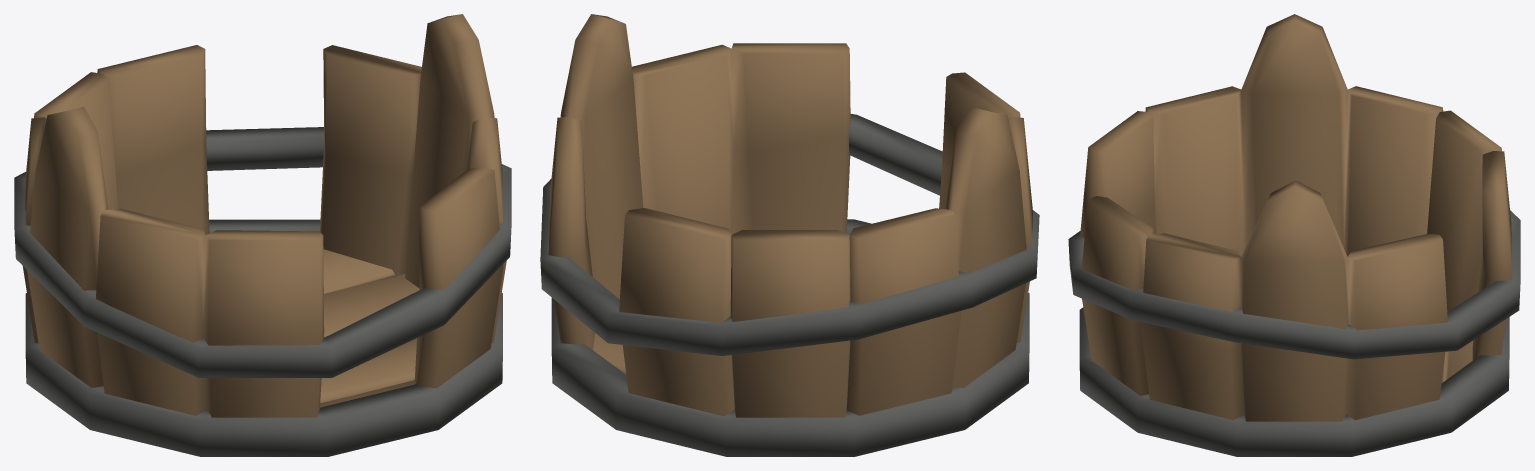
The model's file is rpgpp_av_bathtub_wood_01a.gltf.
The picture shows the model from 3 angles, left to right: view 1: azimuth 30°, elevation 25°; view 2: azimuth 150°, elevation 25°; view 3: azimuth 270°, elevation 25°; orthographic projection. The views are drawn at different scales.
Visible parts, largest first — view 1: rpgpp_av_bathtub_wood_01a; view 2: rpgpp_av_bathtub_wood_01a; view 3: rpgpp_av_bathtub_wood_01a.
Boxes of the visible parts, x1,y1,x2,y2 form: rpgpp_av_bathtub_wood_01a: (14,14,511,456); rpgpp_av_bathtub_wood_01a: (540,14,1039,456); rpgpp_av_bathtub_wood_01a: (1068,14,1520,456).
Bounding box in the file's own units: 0.013 × 0.00849 × 0.0132.
1 material, 1 textured.
